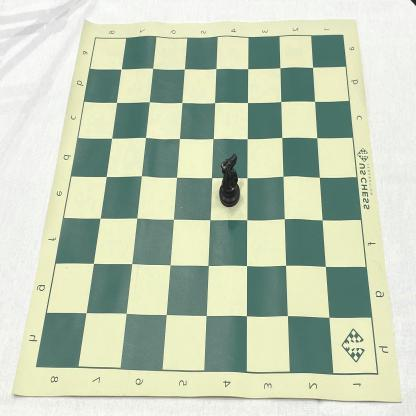black-knight: (219, 154, 241, 208)
